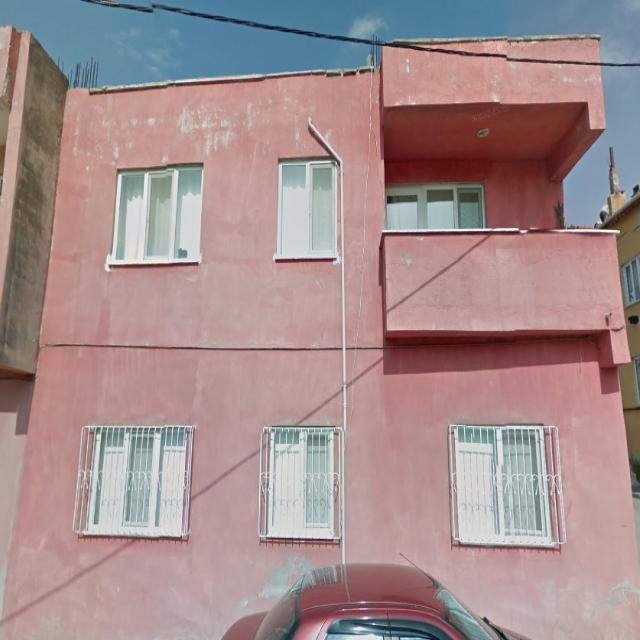Building: (1, 36, 640, 639)
